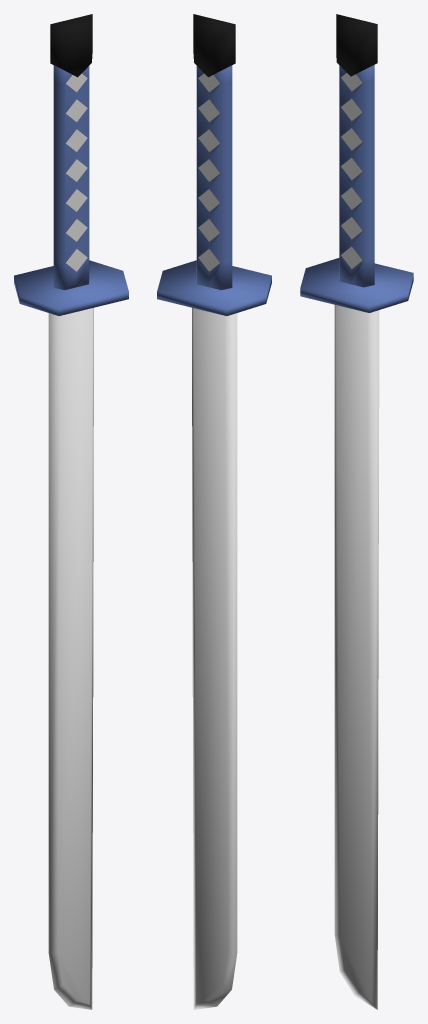
File: SHOGUN_Weapon.fbx
3 views of the same model, side by side, from view 1: azimuth 30°, elevation 25°; view 2: azimuth 150°, elevation 25°; view 3: azimuth 330°, elevation 25° (orthographic).
Visible parts, largest first — view 1: Cube.031; view 2: Cube.031; view 3: Cube.031.
Part boxes in pixels (x1,y1,x2,y2): Cube.031: (14, 14, 128, 1009); Cube.031: (157, 14, 271, 1009); Cube.031: (300, 14, 413, 1009).
Size of the model in its own units: 15.17 by 140 by 11.41.
